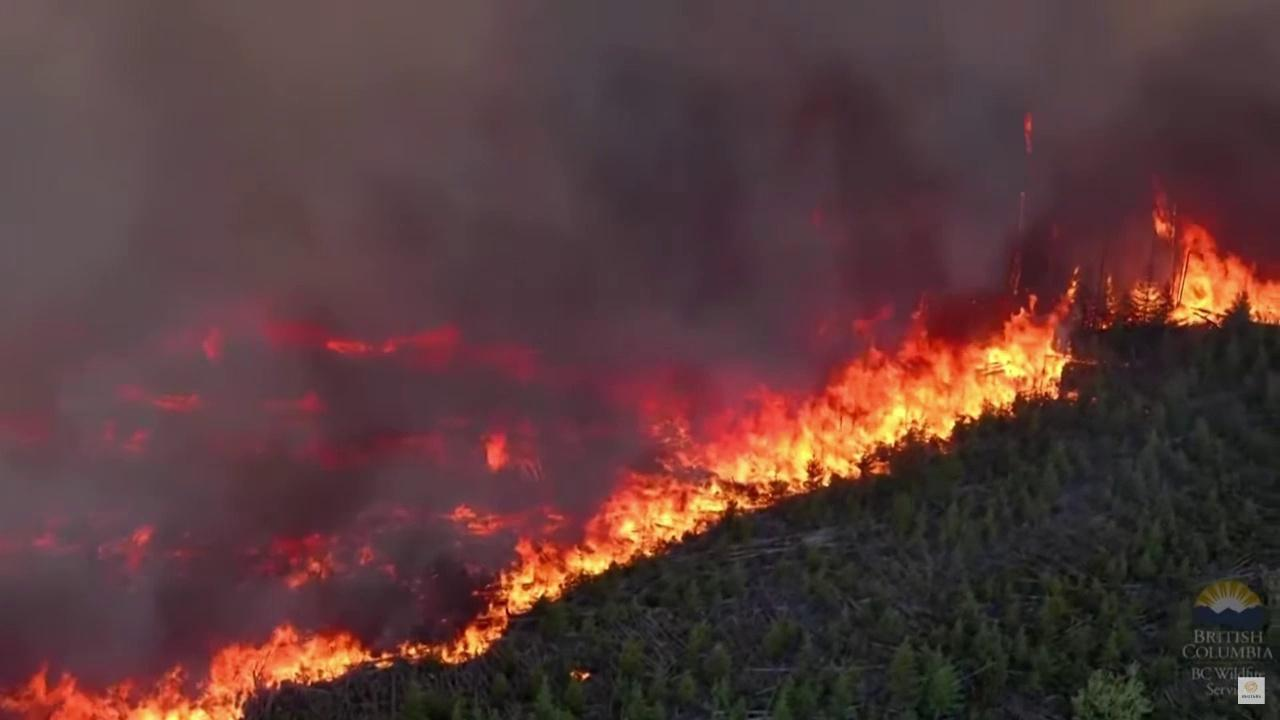fire: (0, 260, 1084, 720), (1099, 172, 1280, 332), (258, 384, 478, 479), (97, 521, 215, 580), (105, 379, 211, 414), (75, 420, 155, 465), (1017, 109, 1040, 157), (806, 203, 826, 228), (565, 666, 591, 683)
smoke: (0, 0, 1280, 720)
